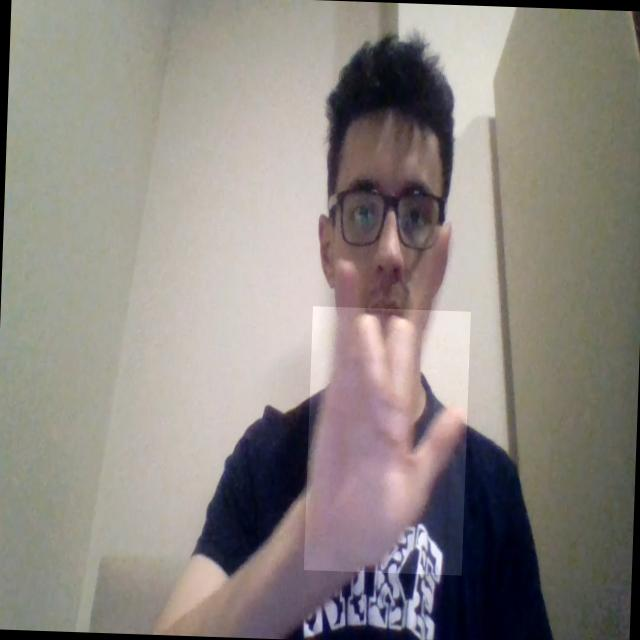iloveyou: (304, 306, 471, 575)
